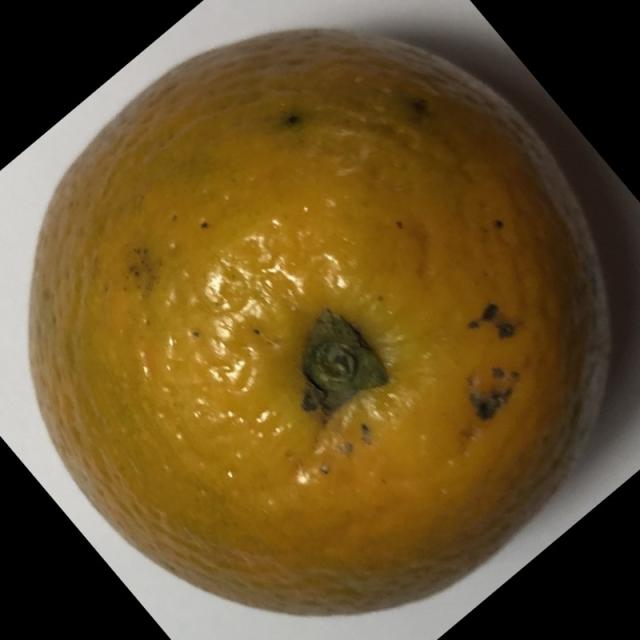black spot: (14, 21, 628, 612)
